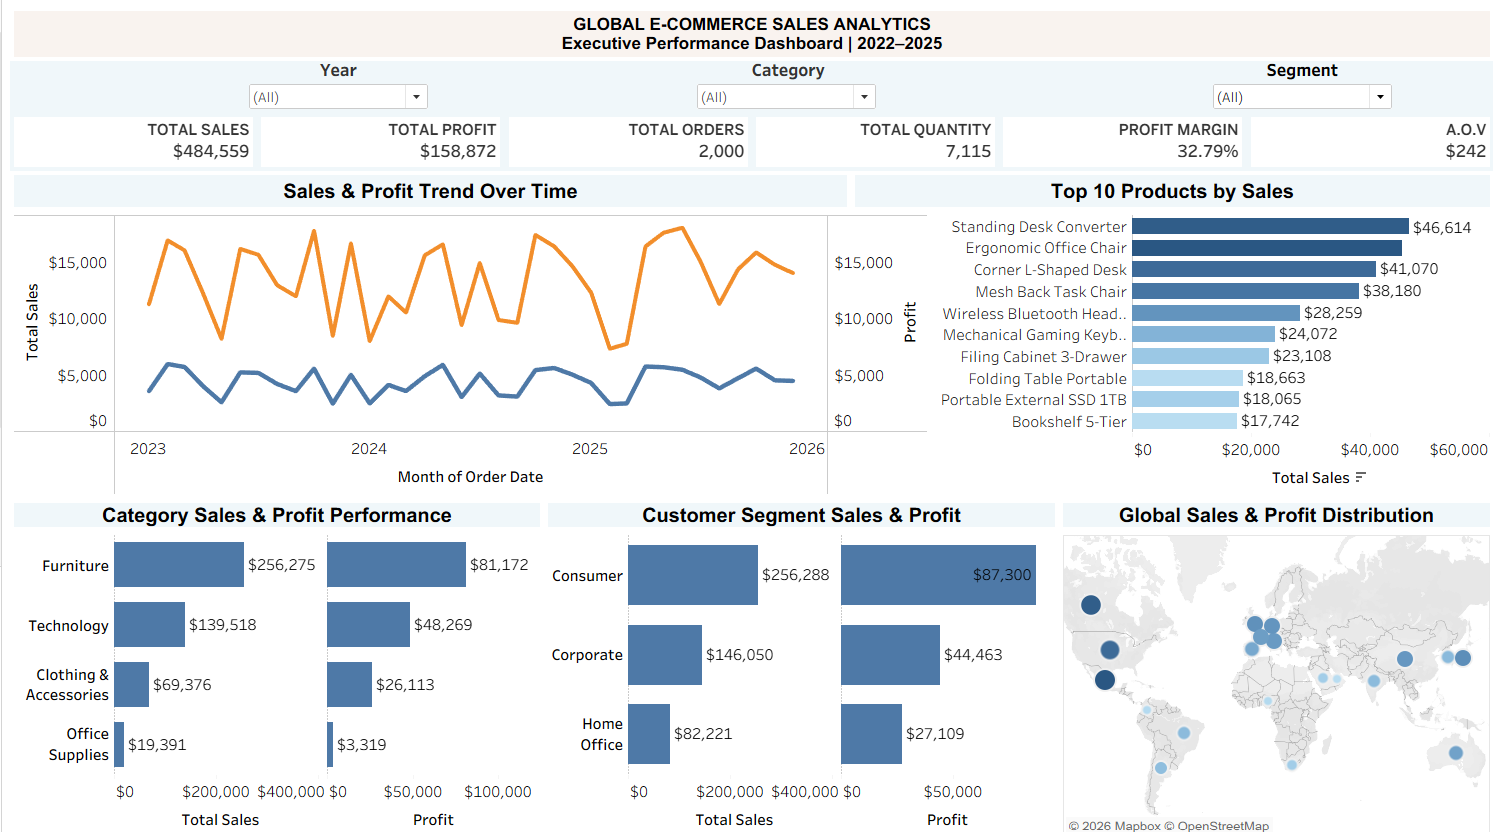

Layout of this report page (visuals, bound fields, positions):
{"tool":"tableau","page":{"name":"Executive Sales Dashboard","canvas":[1500,850],"ordinal":0},"visuals":[{"type":"text","box":[8,8,1484,54]},{"type":"filter","title":"Sales Trend Over Time","param":"[federated.0yybqly1abb1x41ar2y9y14nqux8].[yr:Order_Date:ok]","box":[244,59,185,53]},{"type":"filter","title":"Category Performance","param":"[federated.0yybqly1abb1x41ar2y9y14nqux8].[none:Product_Category:nk]","box":[692,59,185,53]},{"type":"filter","title":"Customer Segment Performance","param":"[federated.0yybqly1abb1x41ar2y9y14nqux8].[none:Customer_Segment:nk]","box":[1208,59,185,53]},{"type":"worksheet","title":"KPI - Total Sales","mark":"Automatic","box":[8,114,247.3,58]},{"type":"worksheet","title":"KPI - Total Profit","mark":"Automatic","box":[255.3,114,247.3,58]},{"type":"worksheet","title":"KPI - Total Orders","mark":"Automatic","box":[502.7,114,247.3,58]},{"type":"worksheet","title":"KPI - Total Quantity","mark":"Automatic","box":[750,114,247.3,58]},{"type":"worksheet","title":"KPI - Profit Margin","mark":"Automatic","box":[997.3,114,247.3,58]},{"type":"worksheet","title":"KPI - Average Order Value","mark":"Automatic","box":[1244.7,114,247.3,58]},{"type":"text","box":[8,172,841,40]},{"type":"text","box":[849,172,643,40]},{"type":"worksheet","title":"Sales Trend Over Time","mark":"Automatic","rows":["Total_Sales","Profit"],"cols":["Order_Date"],"box":[8,212,922,288]},{"type":"worksheet","title":"Top Products by Sales","mark":"Automatic","rows":["Product_Name"],"cols":["Total_Sales"],"box":[930,212,562,288]},{"type":"text","box":[8,500,534,32]},{"type":"text","box":[542,500,515,32]},{"type":"text","box":[1057,500,435,32]},{"type":"worksheet","title":"Category Performance","mark":"Automatic","rows":["Product_Category"],"cols":["Total_Sales","Profit"],"box":[8,532,534.3,310]},{"type":"worksheet","title":"Customer Segment Performance","mark":"Automatic","rows":["Customer_Segment"],"cols":["Total_Sales","Profit"],"box":[542.3,532,514.3,310]},{"type":"worksheet","title":"Geographic Sales & Profit","mark":"Automatic","box":[1056.7,532,435.3,310]}]}

Visuals, with their boxes in screenshot pixels (x1, y1, x2, y2), scaled from the page's 1500x850 canvas onto the 1493x832 screenshot:
text: (x1=8, y1=8, x2=1485, y2=61)
"Sales Trend Over Time" filter: (x1=243, y1=58, x2=427, y2=110)
"Category Performance" filter: (x1=689, y1=58, x2=873, y2=110)
"Customer Segment Performance" filter: (x1=1202, y1=58, x2=1386, y2=110)
"KPI - Total Sales" worksheet: (x1=8, y1=112, x2=254, y2=168)
"KPI - Total Profit" worksheet: (x1=254, y1=112, x2=500, y2=168)
"KPI - Total Orders" worksheet: (x1=500, y1=112, x2=746, y2=168)
"KPI - Total Quantity" worksheet: (x1=746, y1=112, x2=993, y2=168)
"KPI - Profit Margin" worksheet: (x1=993, y1=112, x2=1239, y2=168)
"KPI - Average Order Value" worksheet: (x1=1239, y1=112, x2=1485, y2=168)
text: (x1=8, y1=168, x2=845, y2=208)
text: (x1=845, y1=168, x2=1485, y2=208)
"Sales Trend Over Time" worksheet: (x1=8, y1=208, x2=926, y2=489)
"Top Products by Sales" worksheet: (x1=926, y1=208, x2=1485, y2=489)
text: (x1=8, y1=489, x2=539, y2=521)
text: (x1=539, y1=489, x2=1052, y2=521)
text: (x1=1052, y1=489, x2=1485, y2=521)
"Category Performance" worksheet: (x1=8, y1=521, x2=540, y2=824)
"Customer Segment Performance" worksheet: (x1=540, y1=521, x2=1052, y2=824)
"Geographic Sales & Profit" worksheet: (x1=1052, y1=521, x2=1485, y2=824)
